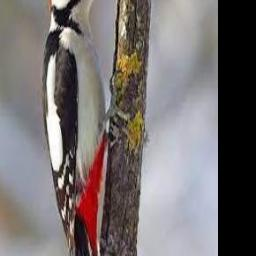Woodpecker: (41, 0, 124, 256)
